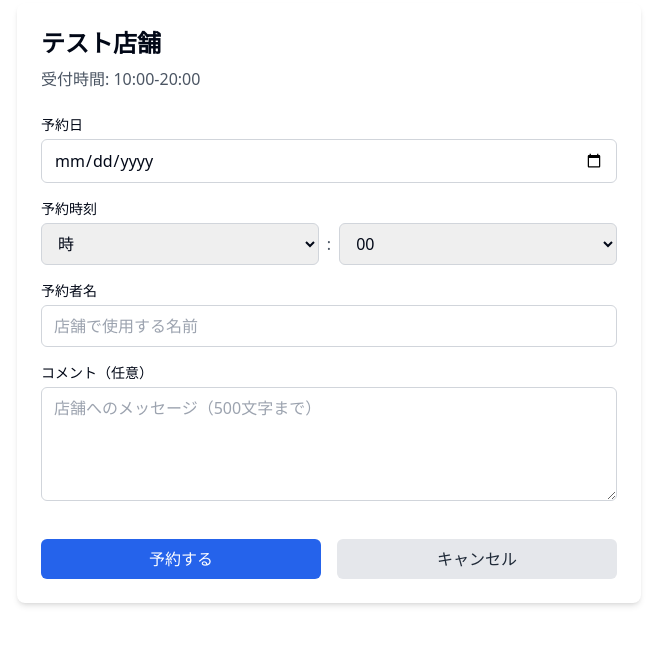
Test: ReservationForm › should display validation error for empty reserverName
Type "2025-12-25" into the date field labelled "予約日". click: (329, 161)
box: top-left (41, 139), bottom-right (617, 183)
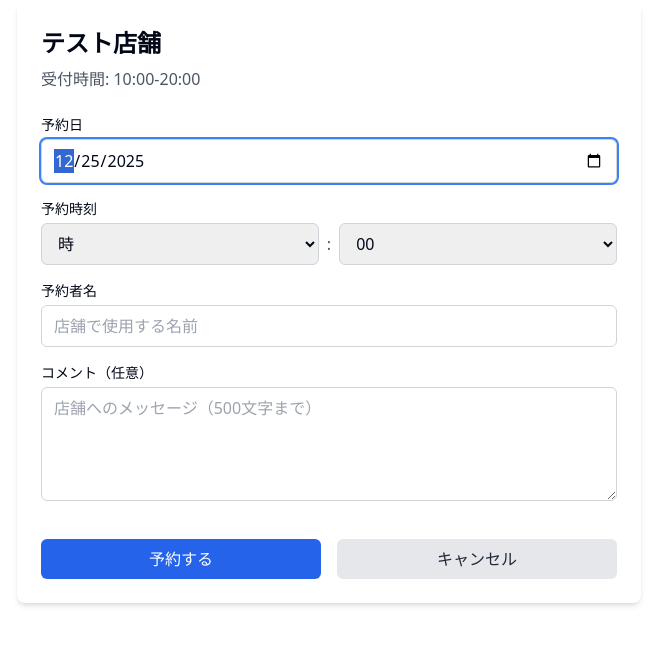
Select "14" in the dropdown named "時". click: (180, 244)
box: top-left (41, 223), bottom-right (319, 265)
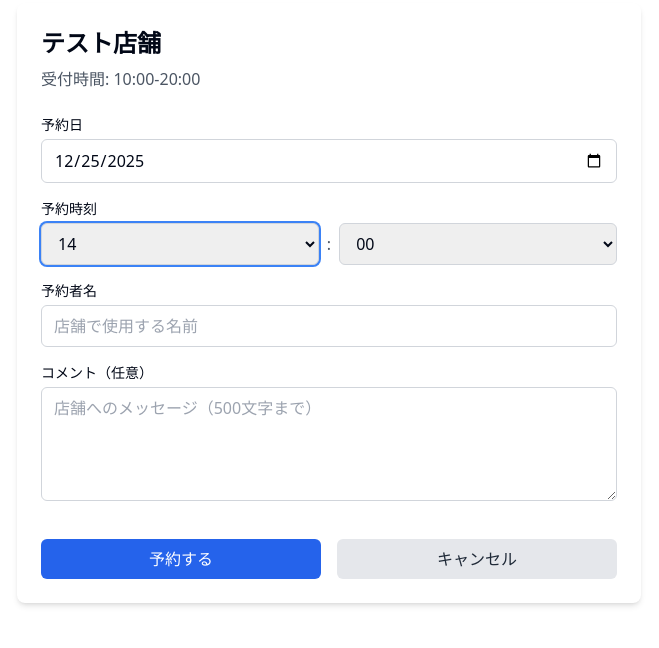
Select "30" in the dropdown named "分". click: (478, 244)
box: top-left (339, 223), bottom-right (617, 265)
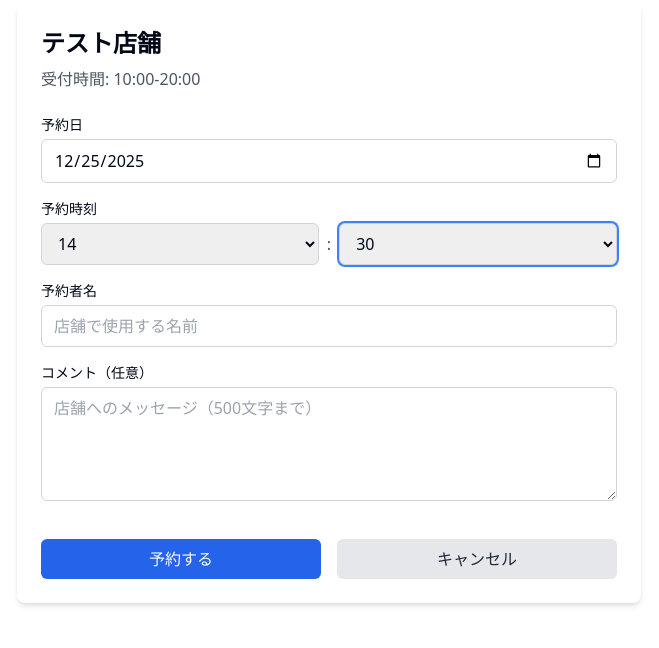
Click the button "予約する". click: (181, 559)
box: top-left (41, 539), bottom-right (321, 579)
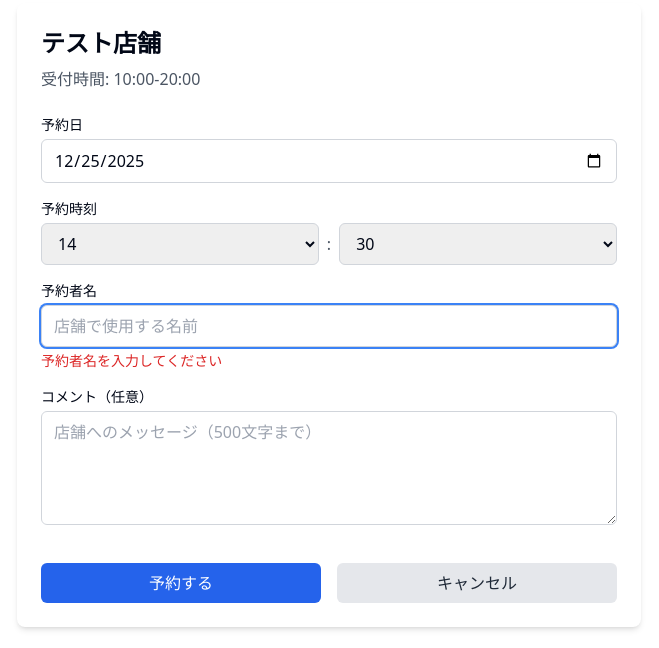
Expected: the text "予約者名を入力してください" is shown, top-left (41, 351), bottom-right (222, 370)
